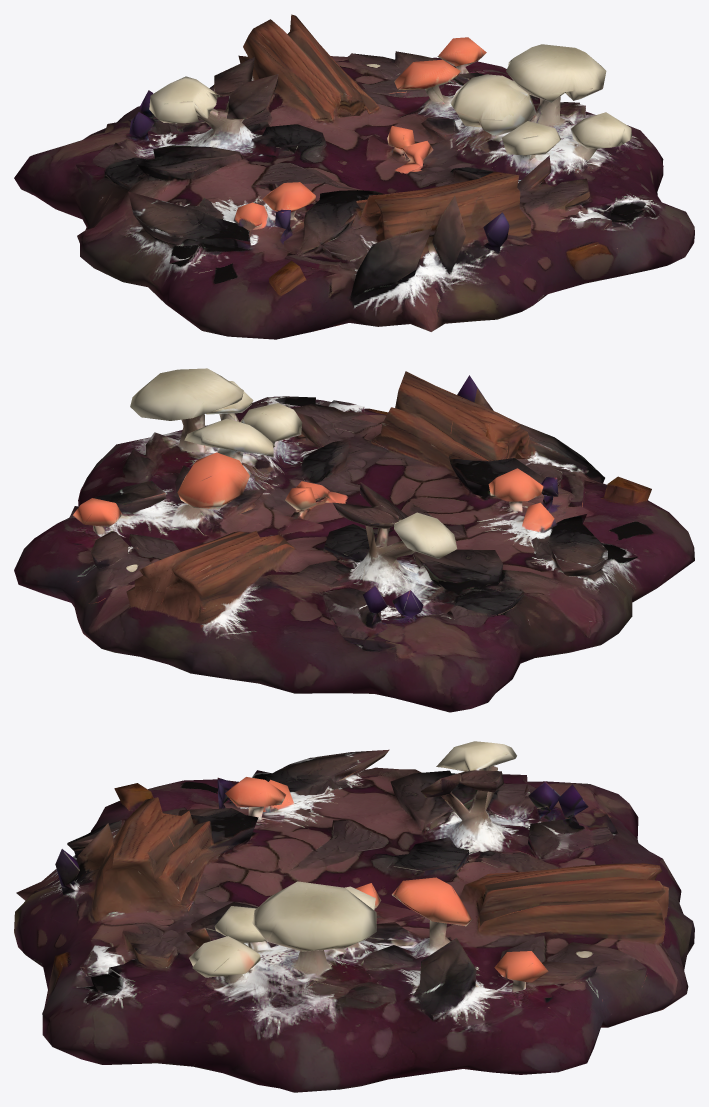
3 renders of one model, top to bottom at view 1: azimuth 30°, elevation 25°; view 2: azimuth 150°, elevation 25°; view 3: azimuth 270°, elevation 25°, orthographic. The views are drawn at different scales.
Parts seen in each view (by area): view 1: Mesh_0; view 2: Mesh_0; view 3: Mesh_0.
Boxes of the visible parts, x1,y1,x2,y2 form: Mesh_0: (14,14,694,339); Mesh_0: (14,368,694,712); Mesh_0: (14,741,694,1092).
Bounding box in the file's own units: 1.91 × 0.4286 × 1.82.
Materials: 1 (1 with a texture image).
